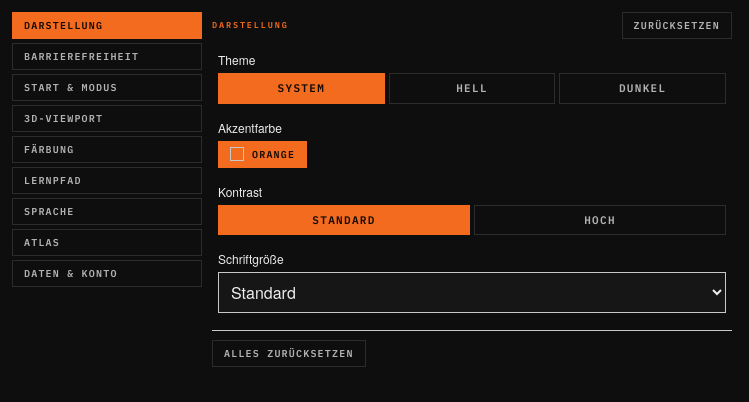
SettingsPanel Daten & Konto › erklaert den deaktivierten Fortschritts-Reset sichtbar
Click the button "Daten & Konto" at coordinates (107, 274), box [12, 260, 202, 287]
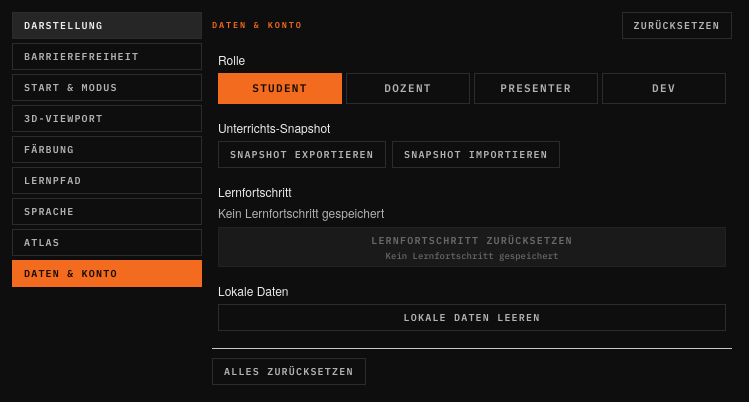
Expected: the button "Lernfortschritt zurücksetzen" is enabled, [218, 227, 726, 267]
Expected: the 1st text "Kein Lernfortschritt gespeichert" is shown, [218, 204, 384, 220]
